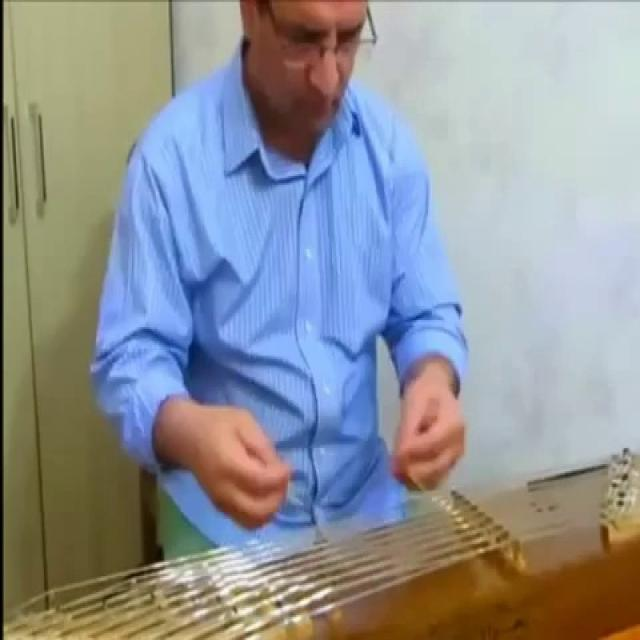Santur: (7, 434, 640, 640)
